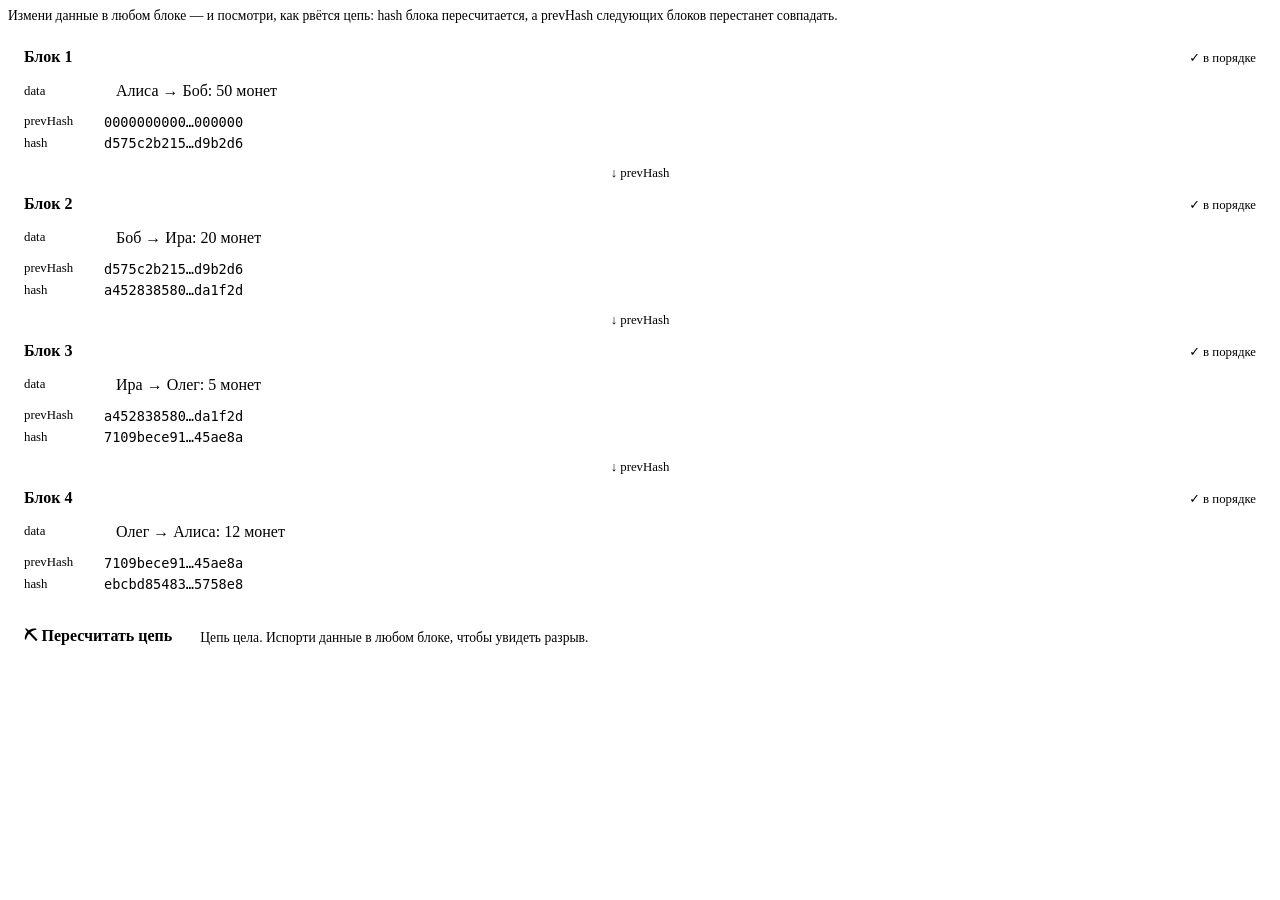
Test case: without chapterId/trainerId break-and-repair writes nothing to the store
The image size is (1280, 900).
Replace the text in the 3rd field labelled "data" with "подделка" at (680,385), box [104, 368, 1256, 402]
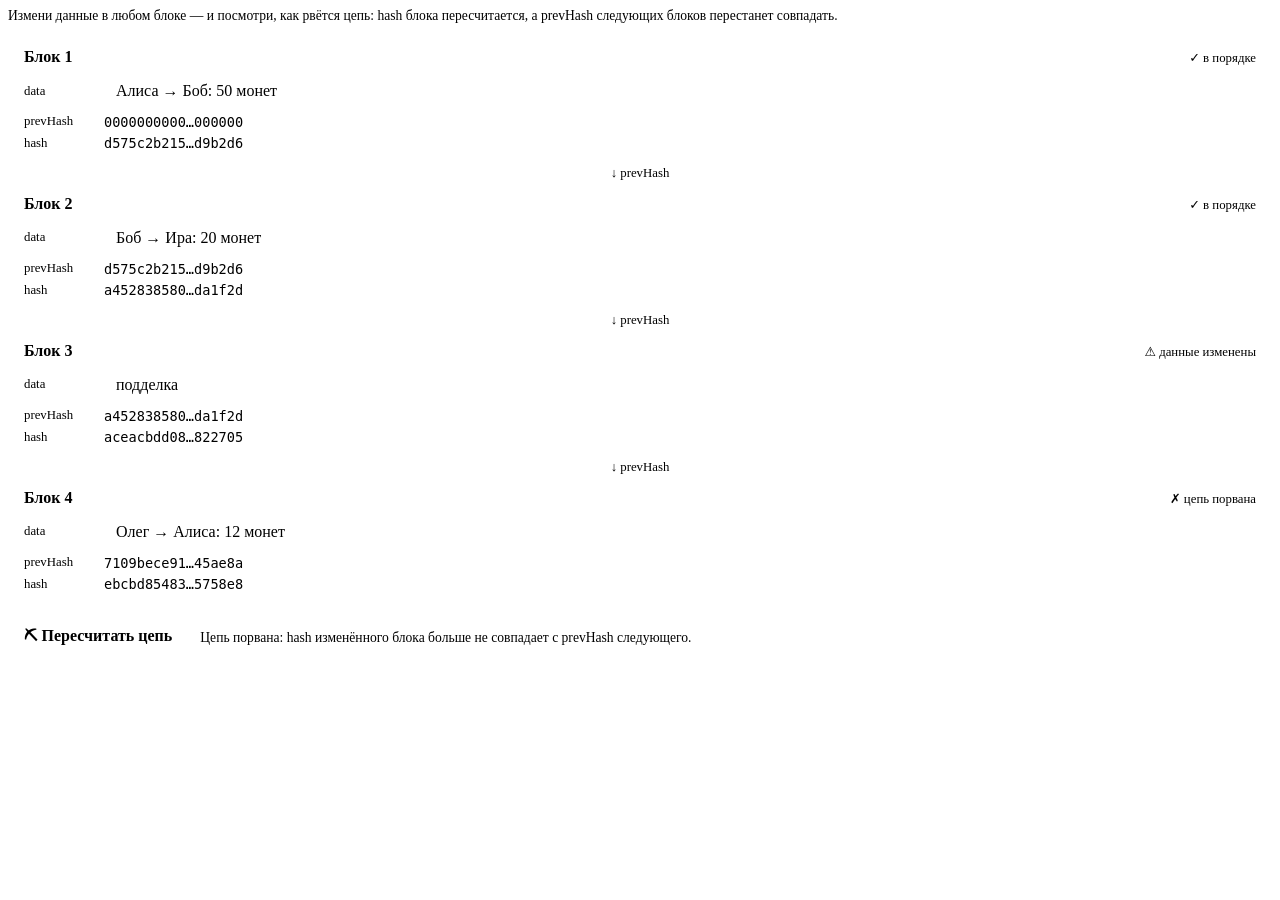
Expected: the element with class "bcd-broken" is shown, [8, 477, 1272, 604]
Click the button "⛏ Пересчитать цепь" at (98,638), box [8, 616, 188, 659]
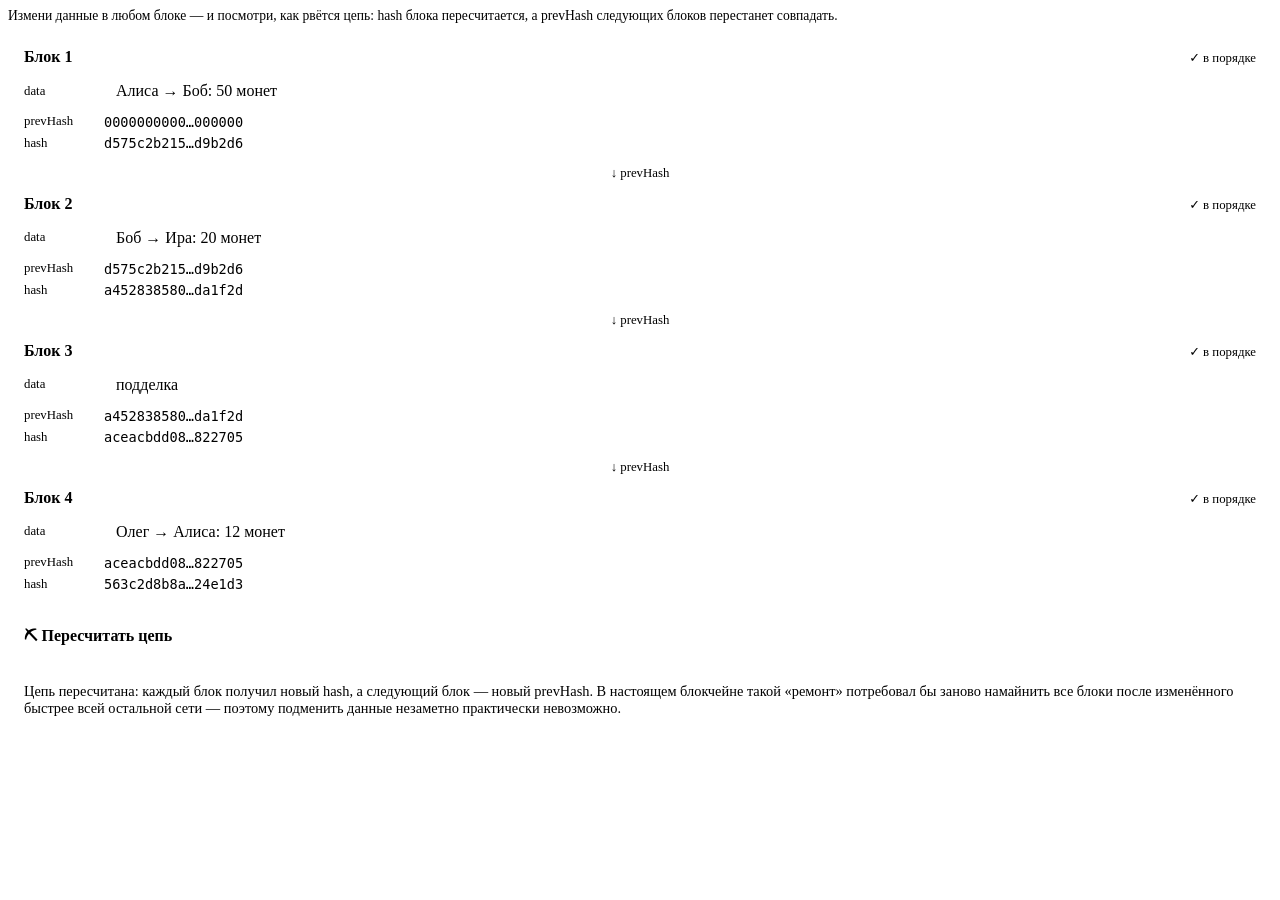
Expected: the text "Цепь пересчитана" is shown, [24, 683, 1233, 716]
